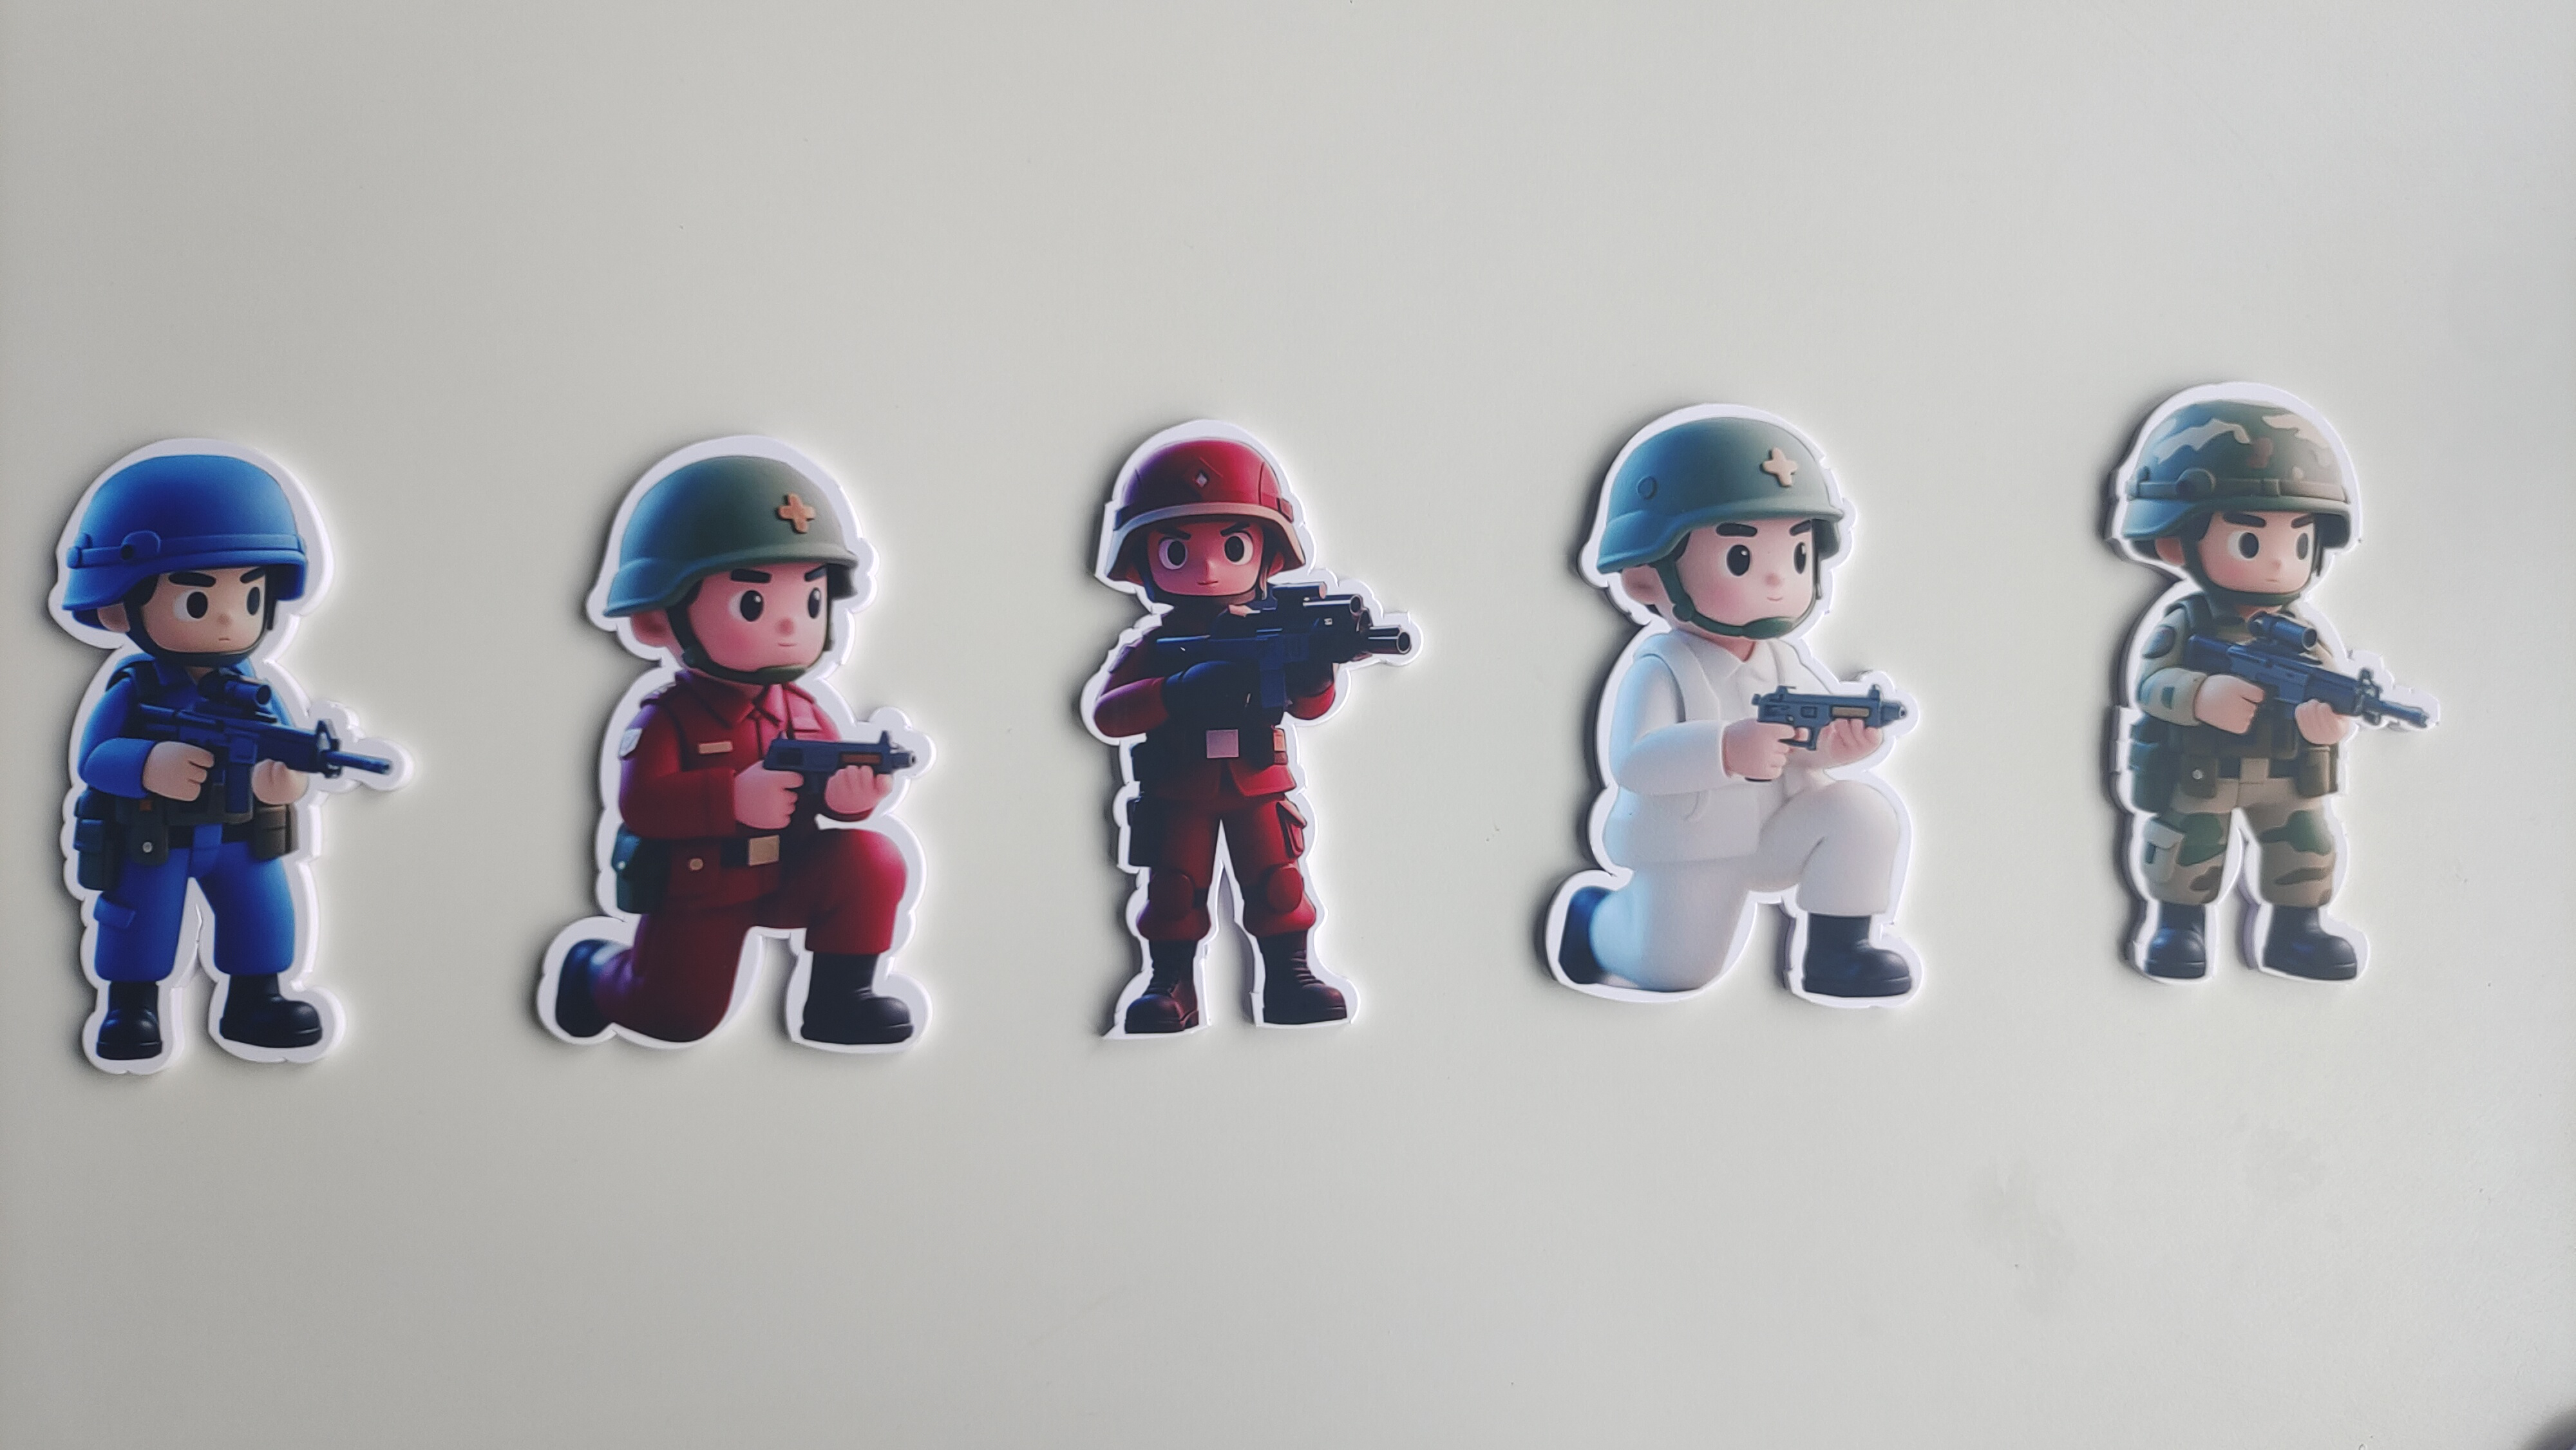enemy1: (497, 683, 961, 1061), (1058, 608, 1376, 1045)
enemy2: (37, 654, 350, 1073)
friend: (2095, 589, 2427, 1006)
hostage: (1530, 635, 1944, 1042)
